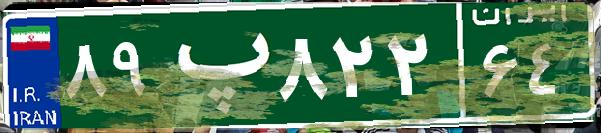2: (385, 28, 445, 110), (330, 28, 385, 110)
4: (525, 38, 570, 115)
6: (475, 38, 525, 113)
8: (273, 28, 330, 110), (57, 26, 110, 107)
9: (110, 28, 158, 105)
پ: (158, 15, 273, 115)
